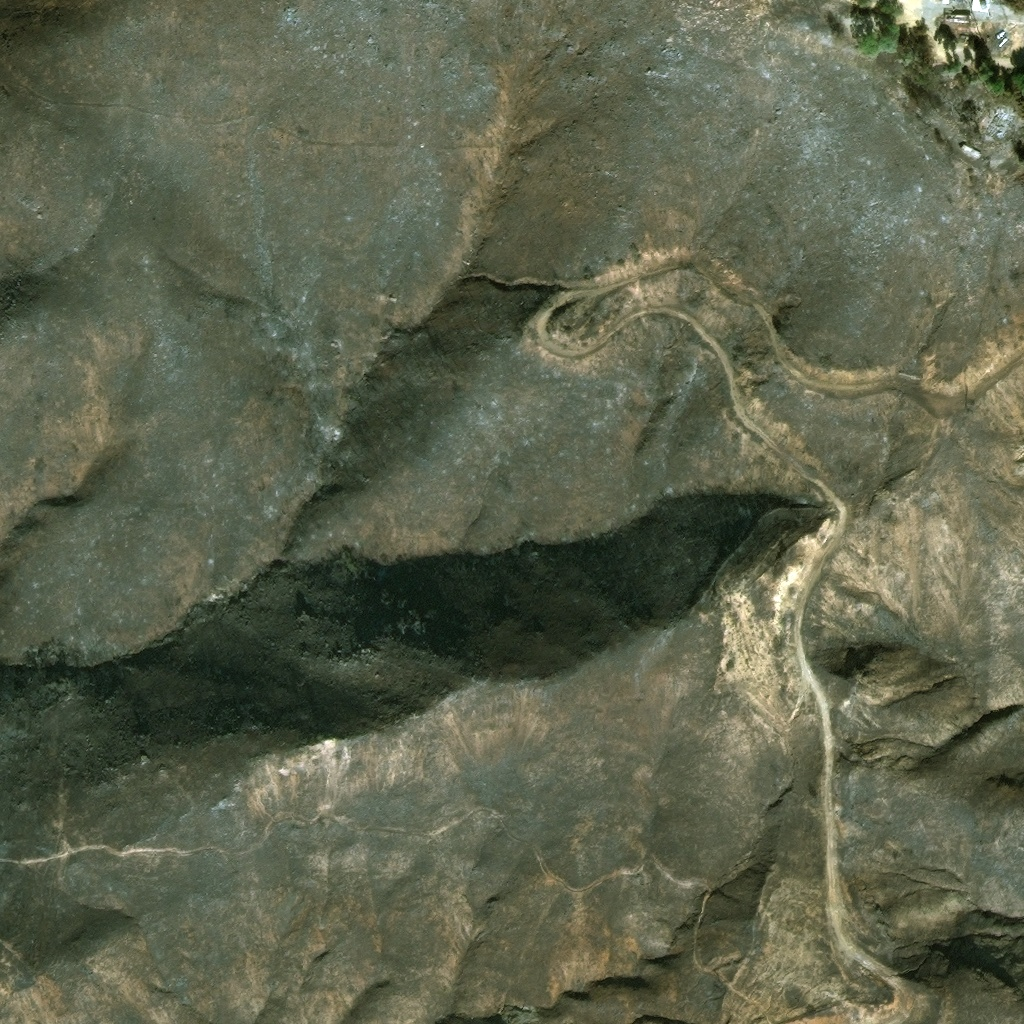3 destroyed: (980, 102, 1011, 143), (958, 140, 981, 157), (942, 10, 967, 21), (989, 30, 1002, 43), (1011, 19, 1022, 33), (957, 26, 968, 37), (987, 42, 999, 52), (971, 0, 979, 8), (980, 0, 987, 7)
